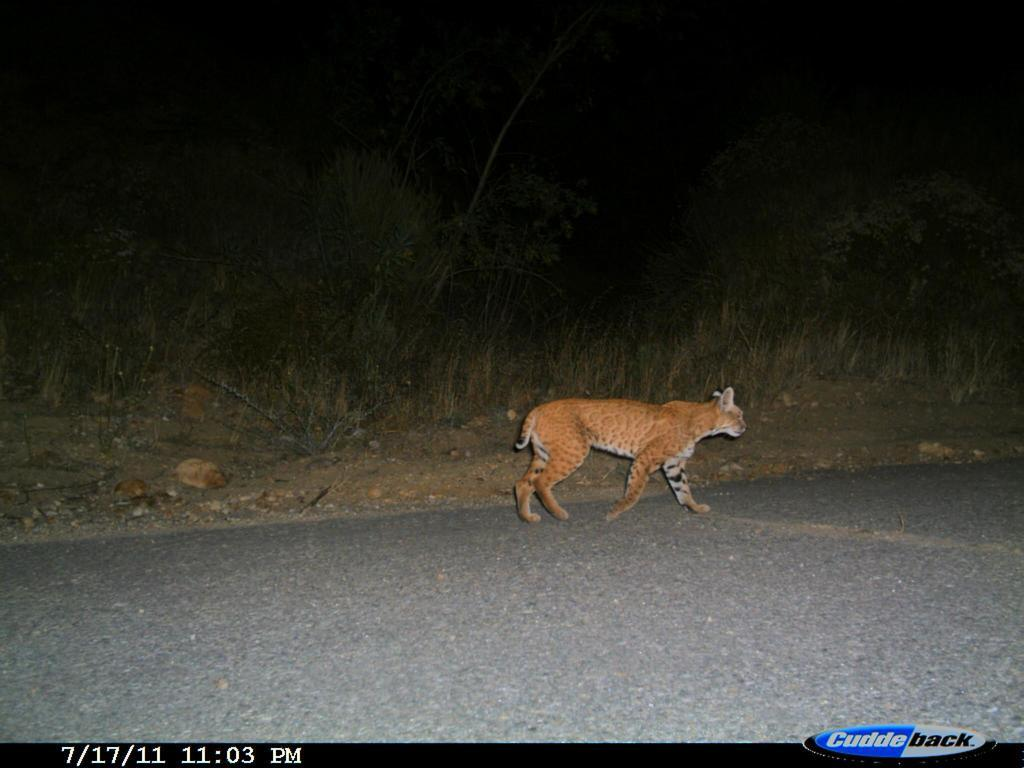bobcat: (482, 378, 758, 541)
